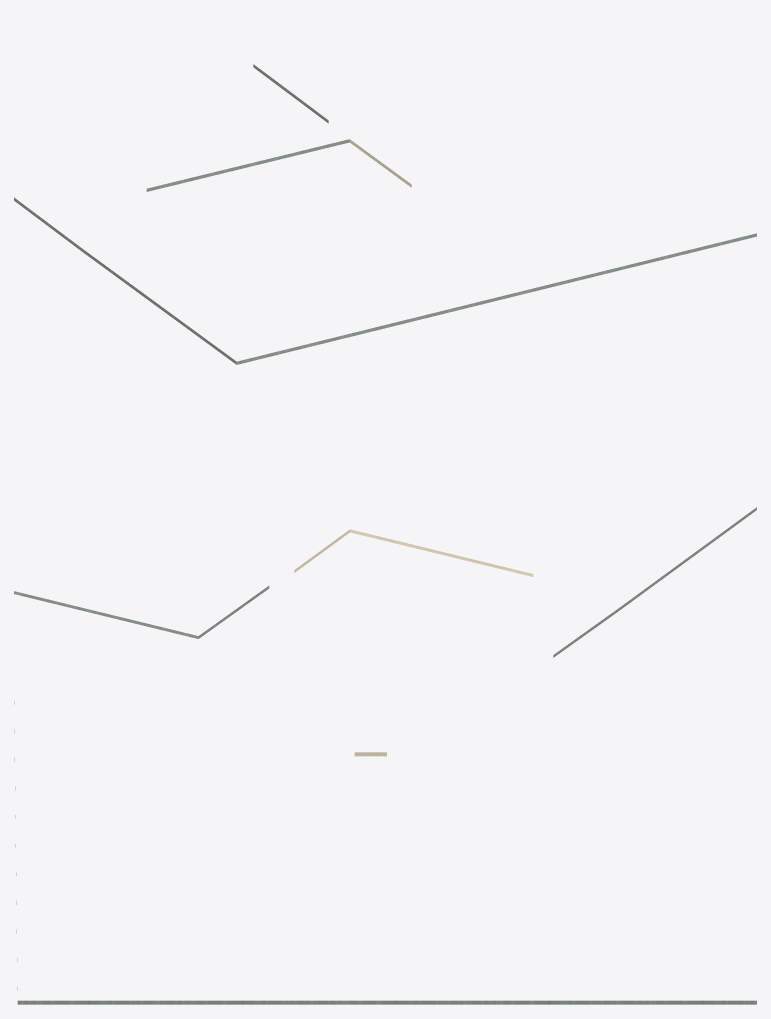
File: CeilingLiving.glb
3 views of the same model, one above another, from view 1: azimuth 30°, elevation 25°; view 2: azimuth 150°, elevation 25°; view 3: azimuth 270°, elevation 25° (orthographic). The views are drawn at different scales.
Visible parts, largest first — view 1: CeilingLiving; view 2: CeilingLiving; view 3: CeilingLiving.
Part boxes in pixels (left/top/right/bottom): CeilingLiving: left=14, top=64, right=756, bottom=364; CeilingLiving: left=14, top=507, right=756, bottom=657; CeilingLiving: left=14, top=701, right=756, bottom=1004.
Bounding box in the file's own units: 2421 × 14.9 × 2419.
2 materials, 2 textured.
